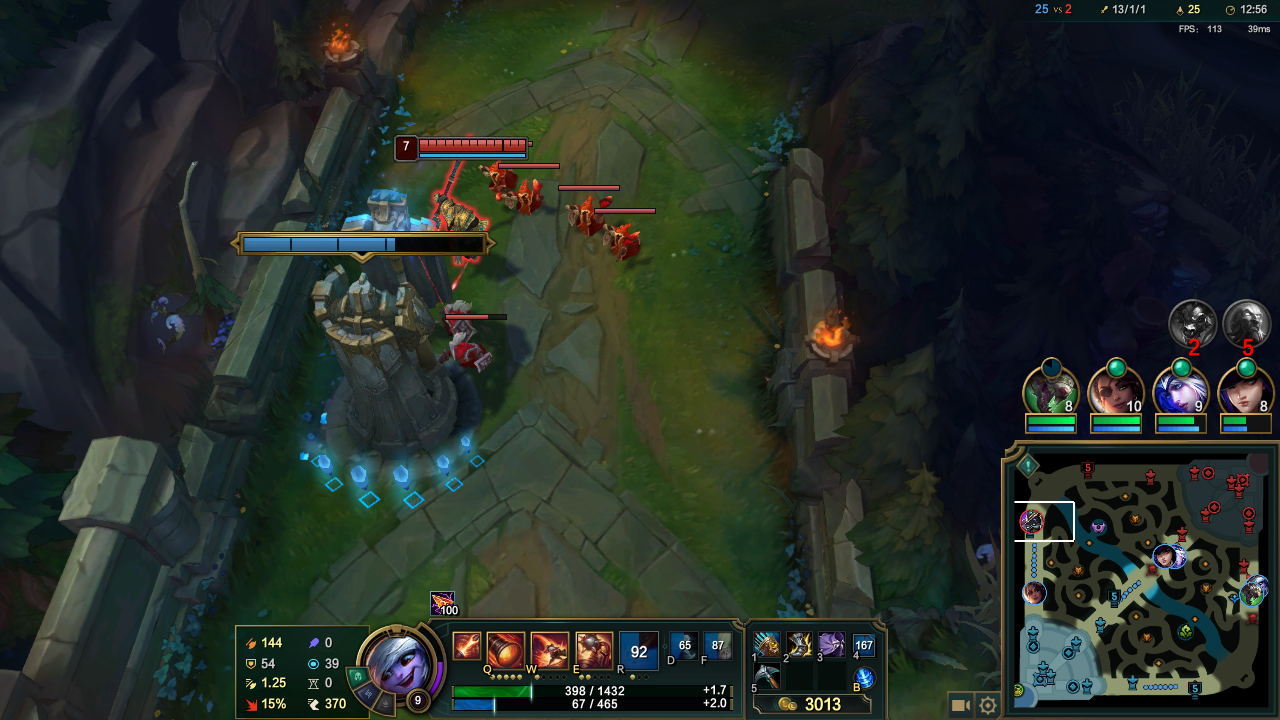DFXB: (440, 333, 509, 380), (505, 180, 559, 225), (568, 194, 620, 234), (599, 218, 646, 255), (479, 154, 516, 195)
DFYX: (422, 134, 503, 159)
Yita: (1185, 676, 1209, 702)
